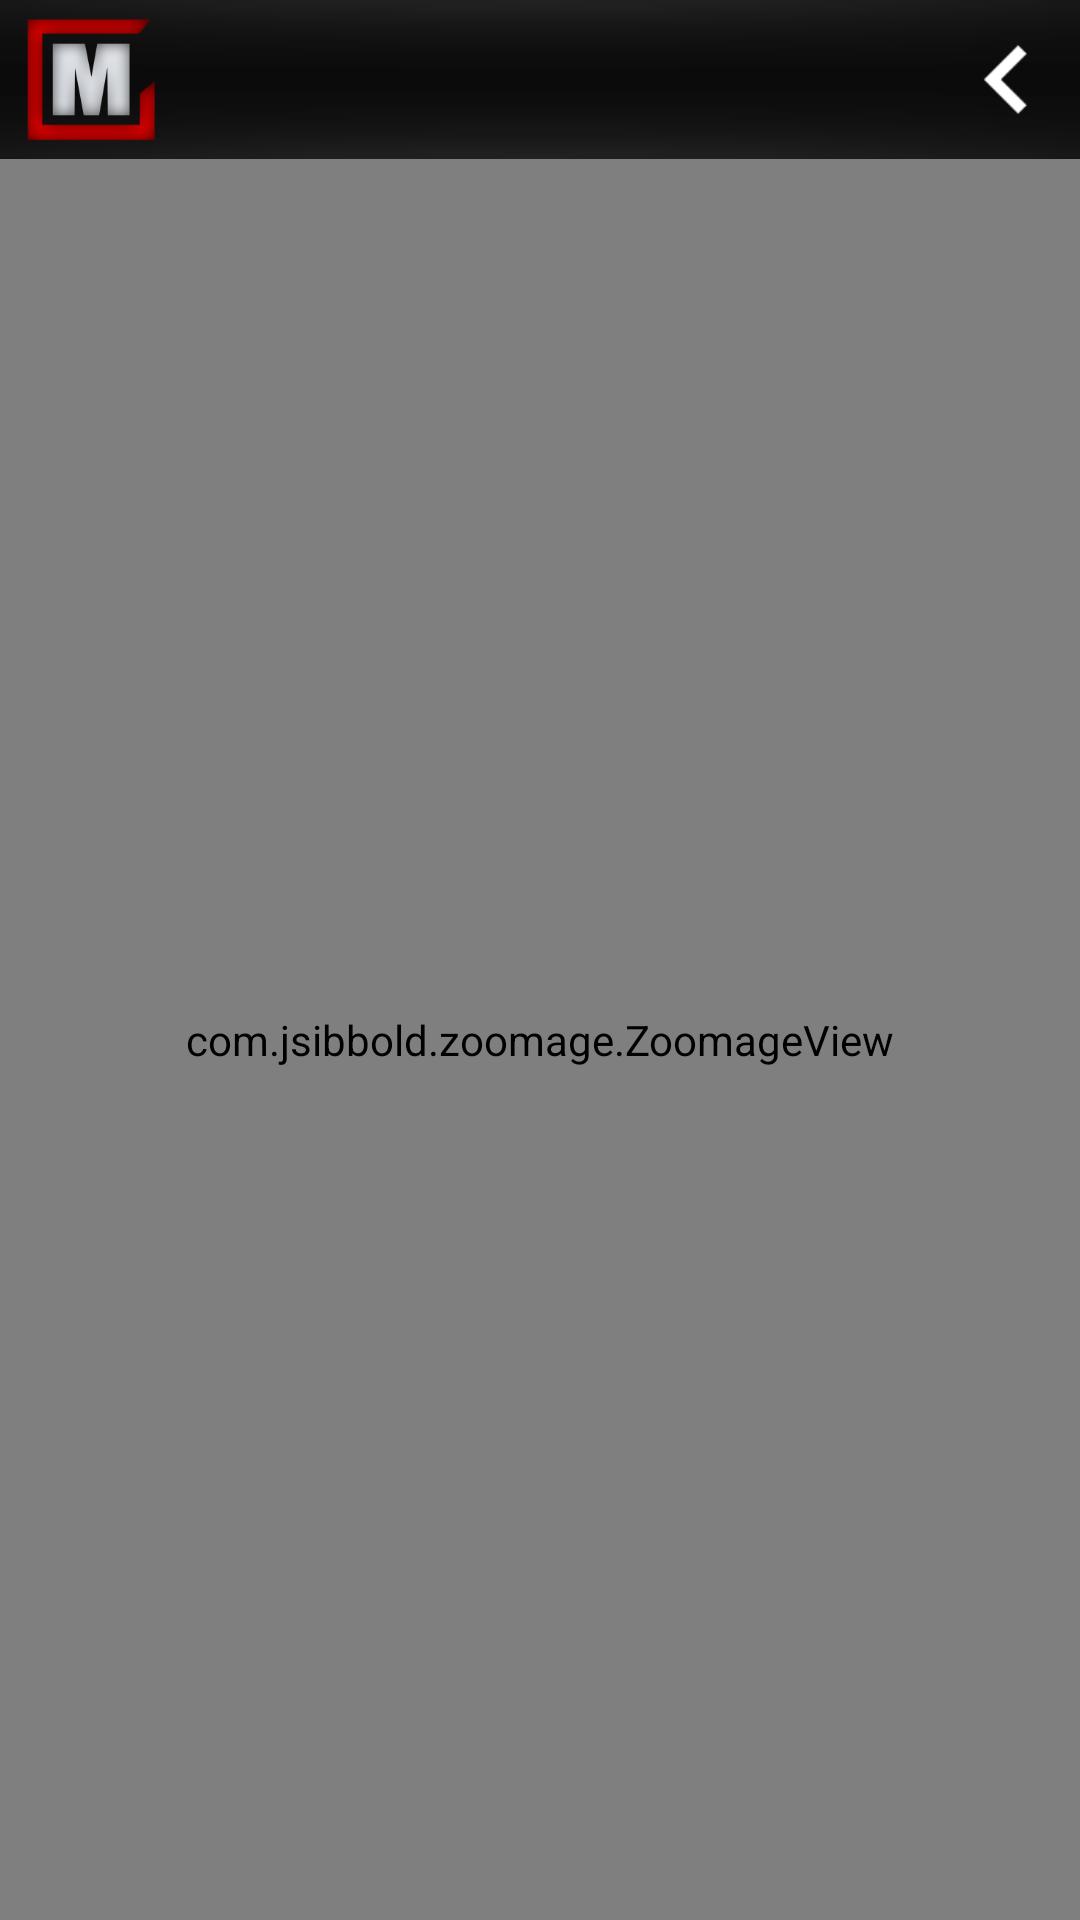

Named icons in this screenshot (1080×1920) and their centers, (x,y):
back: (1012,79)
